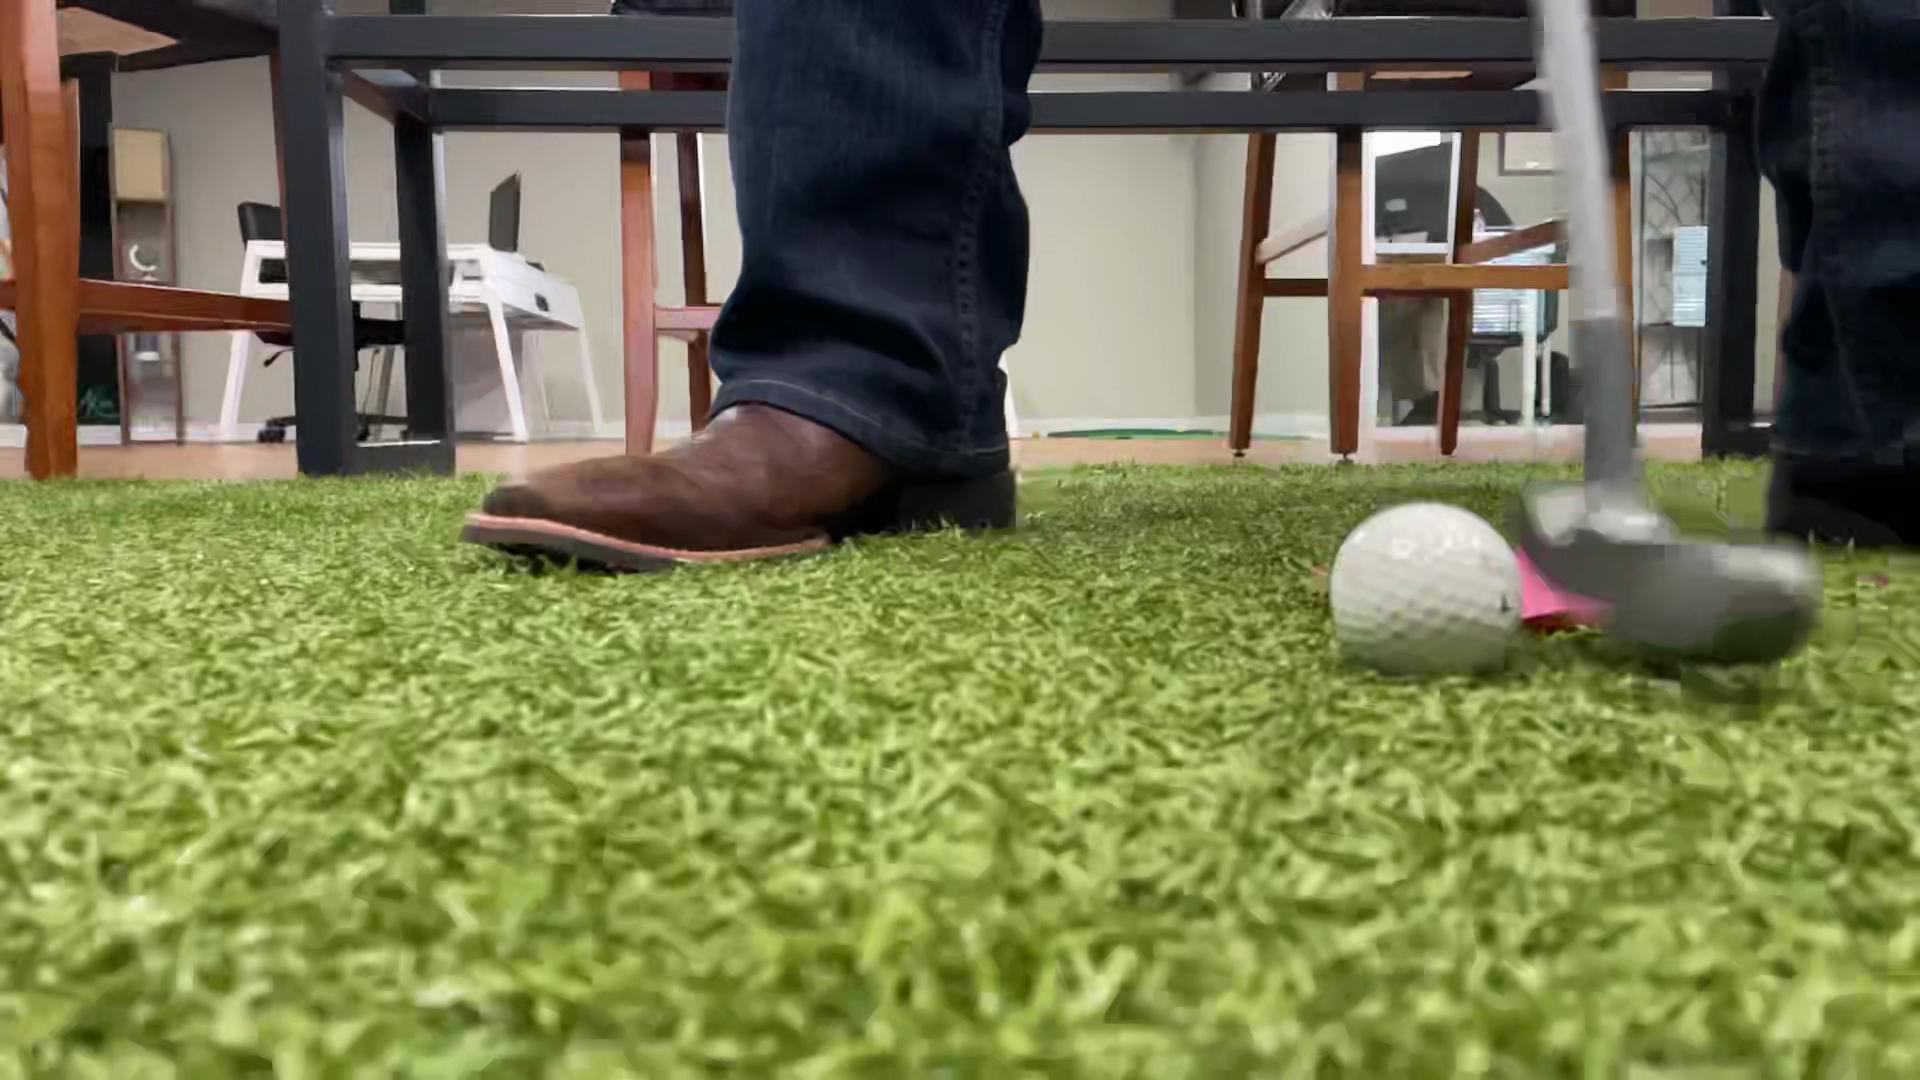golfball: (1329, 503, 1521, 676)
